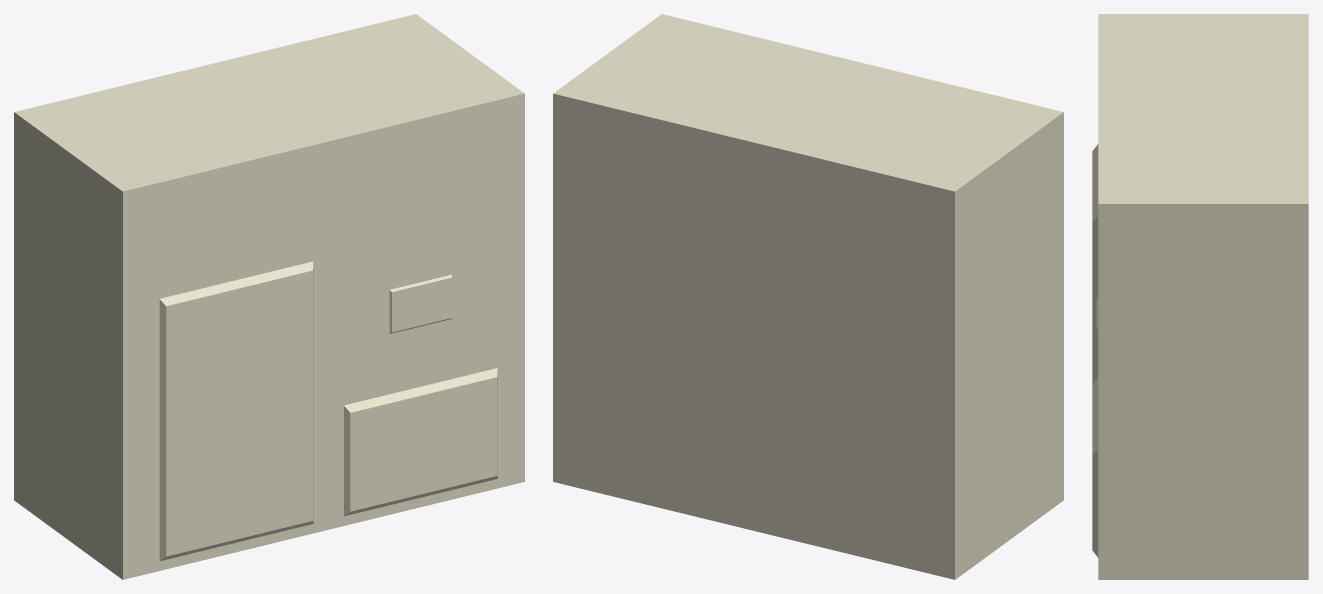
Rendered from ElectricBox.fbx.
3 renders of one model, left to right at view 1: azimuth 30°, elevation 25°; view 2: azimuth 150°, elevation 25°; view 3: azimuth 270°, elevation 25°, orthographic. The views are drawn at different scales.
Visible parts, largest first — view 1: ElectricBox; view 2: ElectricBox; view 3: ElectricBox.
Boxes of the visible parts, x1,y1,x2,y2 form: ElectricBox: (14,14,524,579); ElectricBox: (553,14,1063,579); ElectricBox: (1092,14,1308,579).
Size of the model in its own units: 305 by 283 by 147.
